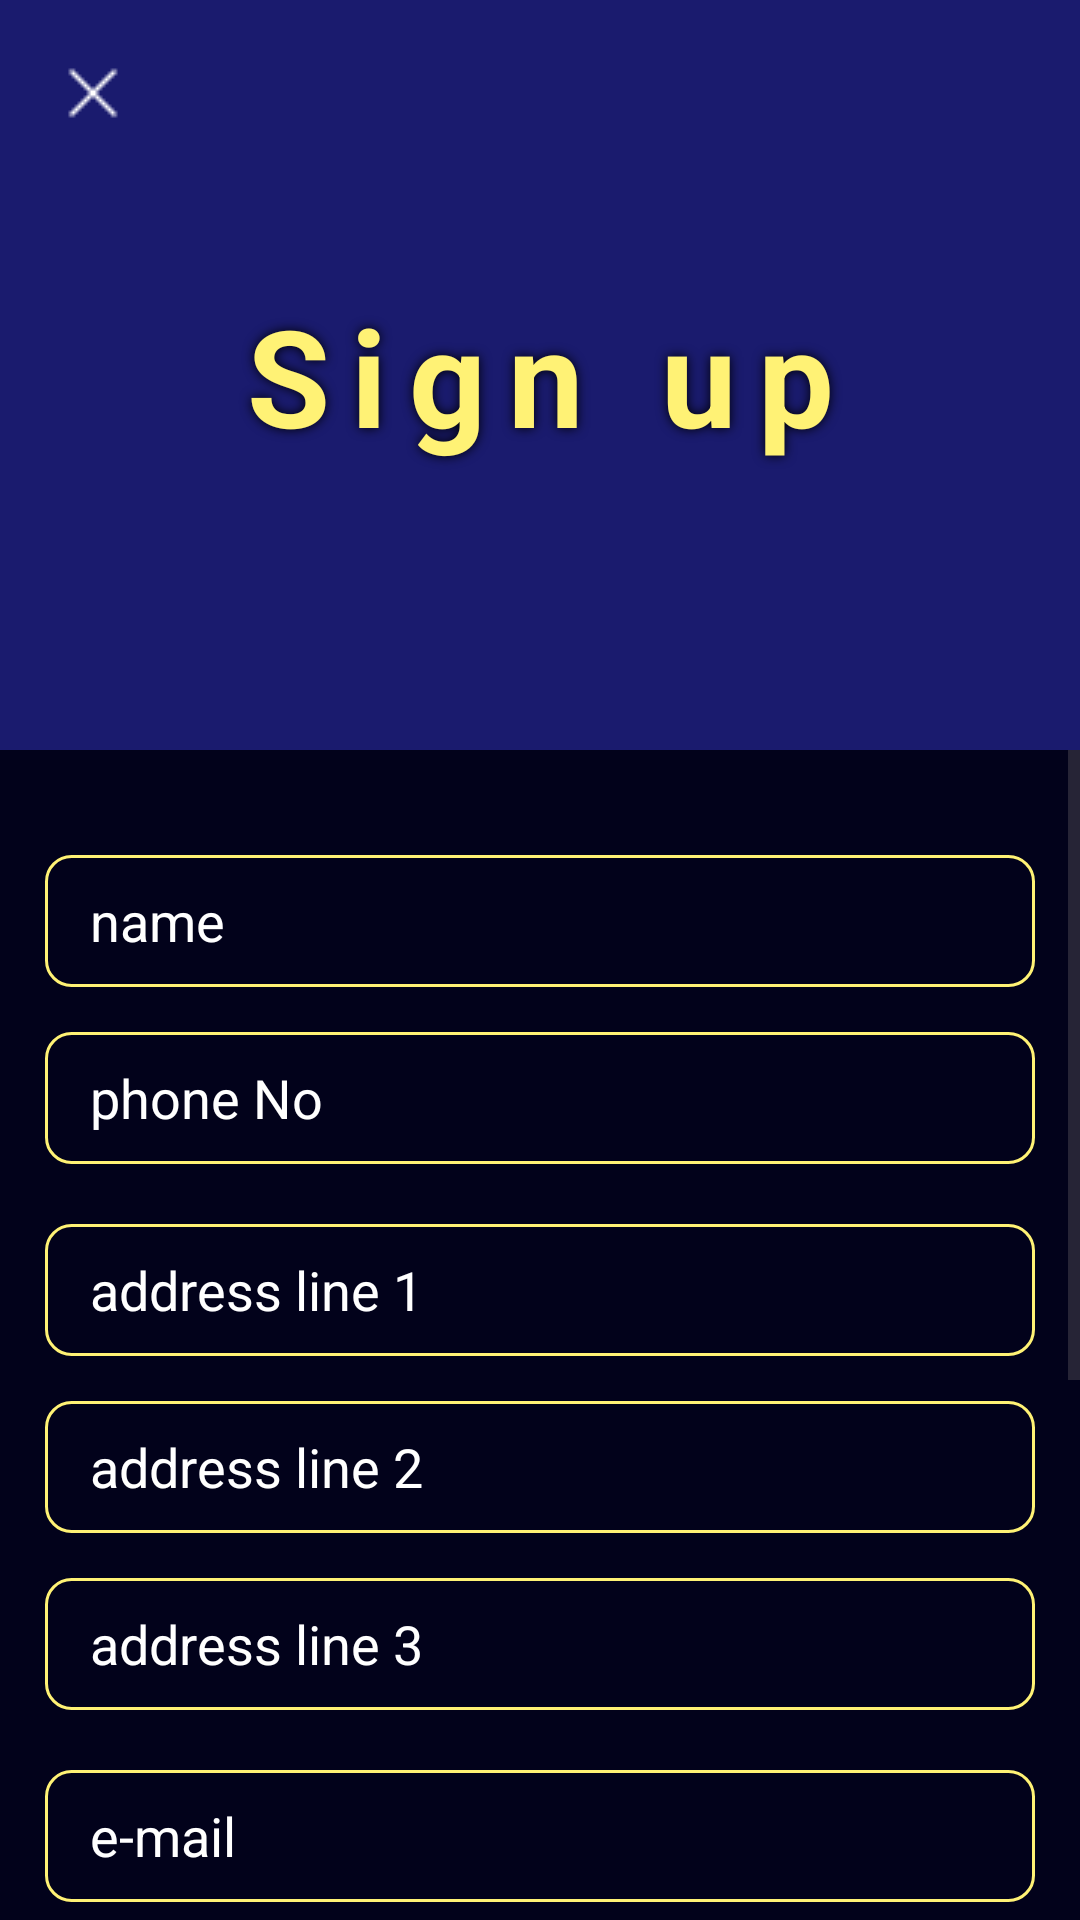

Screen size 1080 x 1920. Icon name, then its center in pixels as point (x, y):
close: point (93, 93)
